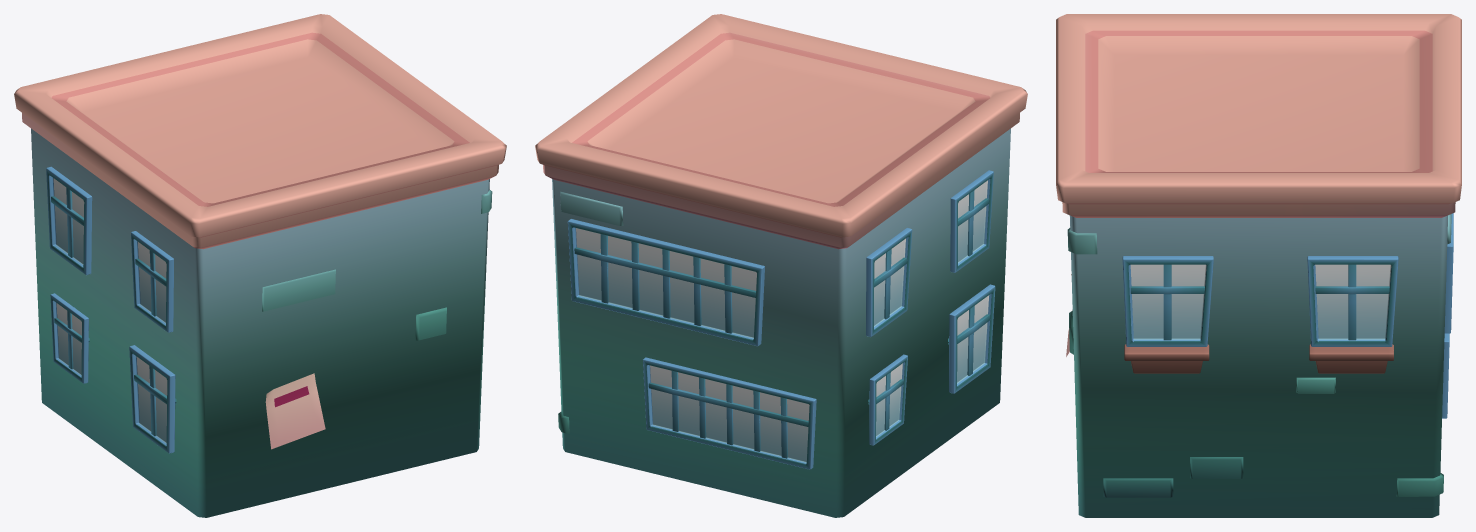
File: SM_House_Green.fbx
3 views of the same model, side by side, from view 1: azimuth 30°, elevation 25°; view 2: azimuth 150°, elevation 25°; view 3: azimuth 270°, elevation 25° (orthographic). The views are drawn at different scales.
Visible parts, largest first — view 1: SM_House_Green; view 2: SM_House_Green; view 3: SM_House_Green.
Boxes of the visible parts, left/top/right/bottom form: SM_House_Green: left=14, top=14, right=506, bottom=517; SM_House_Green: left=535, top=14, right=1027, bottom=517; SM_House_Green: left=1056, top=14, right=1461, bottom=517.
Bounding box in the file's own units: 1621 × 1499 × 1605.
